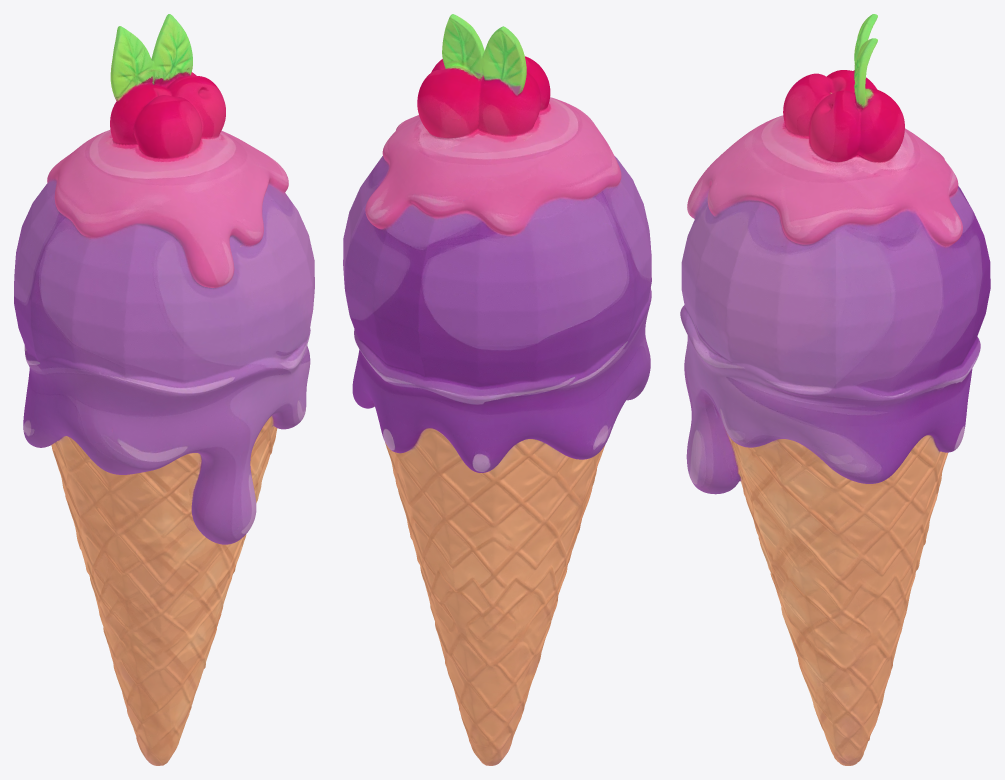
File: Cono gelato.glb
3 views of the same model, side by side, from view 1: azimuth 30°, elevation 25°; view 2: azimuth 150°, elevation 25°; view 3: azimuth 270°, elevation 25° (orthographic). The views are drawn at different scales.
Bounding box in the file's own units: 0.723 × 1.9 × 0.7246.
1 material, 1 textured.
